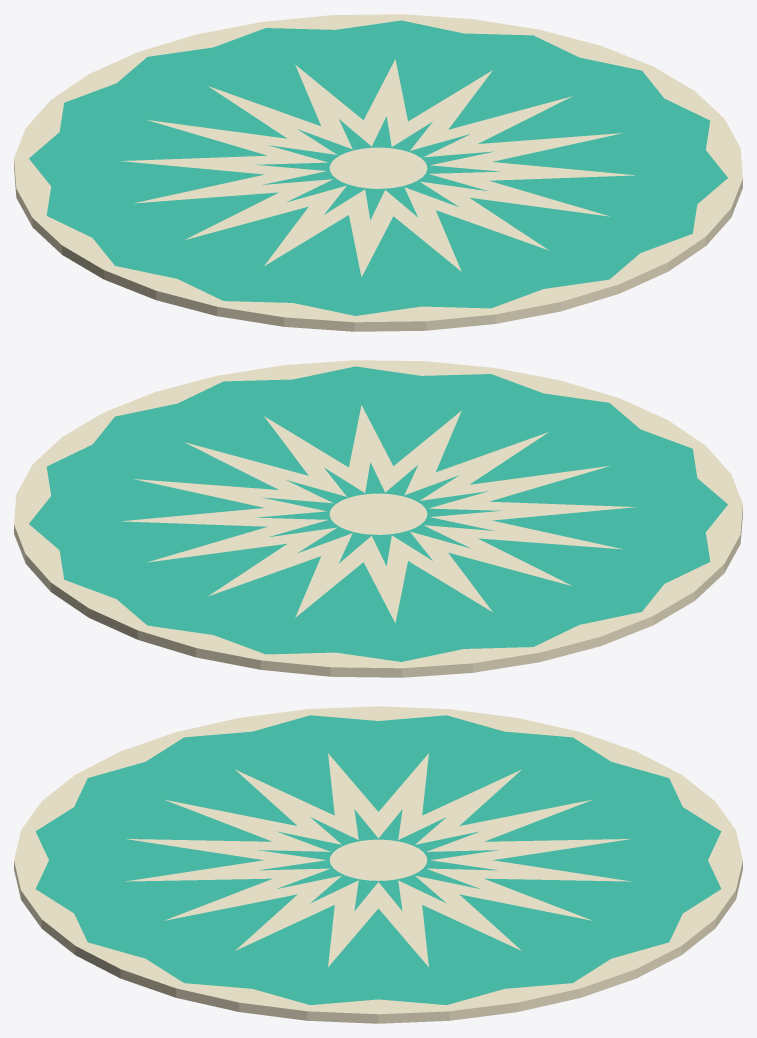
The model's file is rug.fbx.
3 views of the same model, one above another, from view 1: azimuth 30°, elevation 25°; view 2: azimuth 150°, elevation 25°; view 3: azimuth 270°, elevation 25° (orthographic).
Parts seen in each view (by area): view 1: rug; view 2: rug; view 3: rug.
Part boxes in pixels (box(x1,y1,x2,y2)): rug: box(14, 14, 742, 331); rug: box(14, 360, 742, 677); rug: box(14, 706, 742, 1023).
Bounding box in the file's own units: 78.37 × 1.13 × 78.37.
